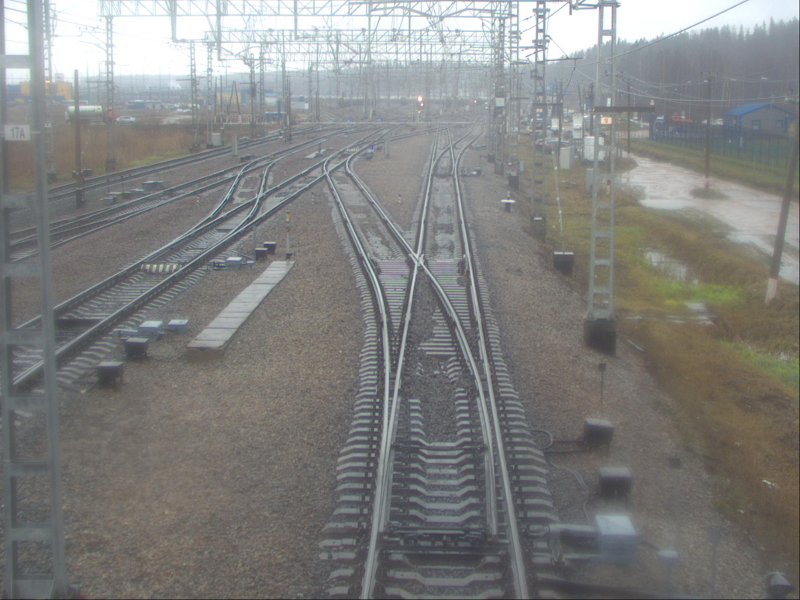right: (366, 255, 524, 536), (430, 142, 458, 174)
